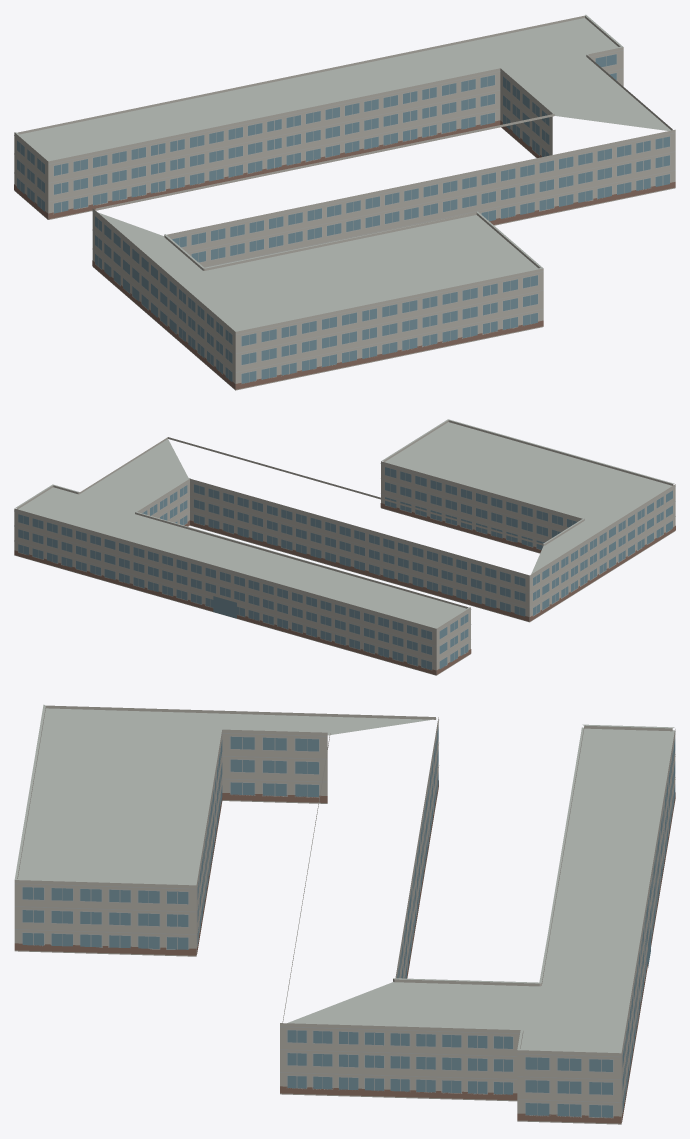
The model's file is public-bf82191a-3fd1-4b89-a914-232deeb4cd94.glb.
3 views of the same model, one above another, from view 1: azimuth 30°, elevation 25°; view 2: azimuth 150°, elevation 25°; view 3: azimuth 270°, elevation 25° (orthographic). The views are drawn at different scales.
Parts seen in each view (by area): view 1: public-bf82191a-3fd1-4b89-a914-232deeb4cd94; view 2: public-bf82191a-3fd1-4b89-a914-232deeb4cd94; view 3: public-bf82191a-3fd1-4b89-a914-232deeb4cd94.
Boxes of the visible parts, box(x1,y1,x2,y2) form: public-bf82191a-3fd1-4b89-a914-232deeb4cd94: box(14, 14, 675, 390); public-bf82191a-3fd1-4b89-a914-232deeb4cd94: box(14, 419, 675, 675); public-bf82191a-3fd1-4b89-a914-232deeb4cd94: box(14, 704, 675, 1124).
Bounding box in the file's own units: 96.04 × 9.15 × 76.92.
